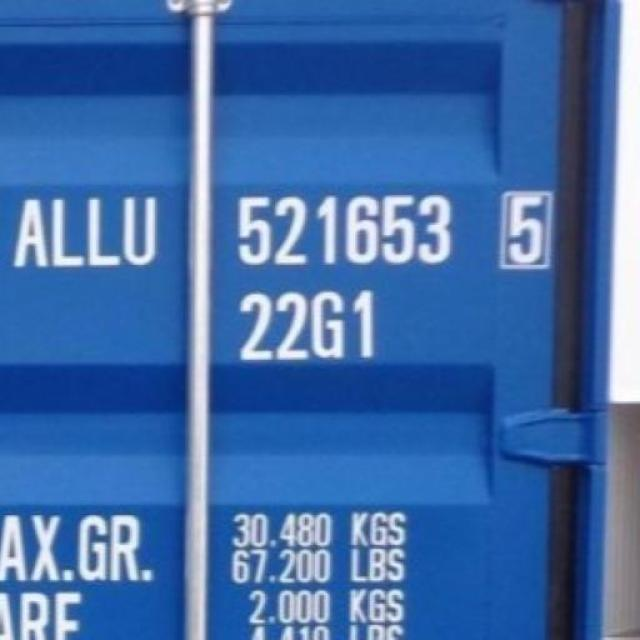ISO: (242, 290, 386, 368)
container_number: (4, 185, 567, 283), (235, 514, 405, 548)
